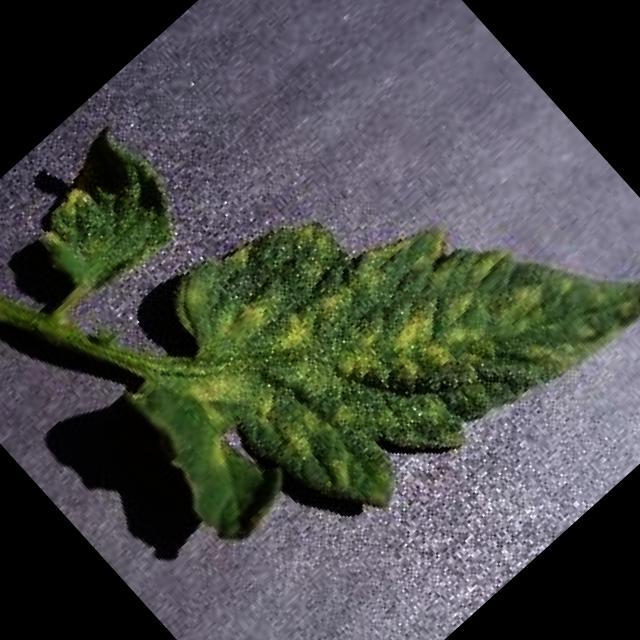Tomato mold leaf: (63, 20, 640, 634)
